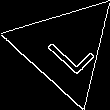L_NW: (35, 19, 94, 76)
